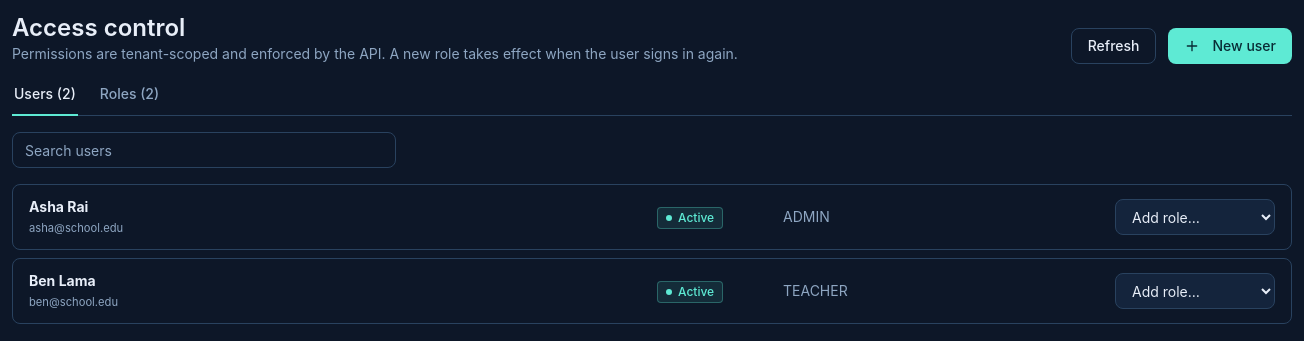
Test: RbacPage › lists users in rows and filters them with the search box
The image size is (1304, 341).
Expected: the text "Asha Rai" is shown, x1=29 y1=198 x2=88 y2=215
Expected: the list named "Users" is shown, x1=12 y1=184 x2=1292 y2=324
In the search field labelled "Search users": [204, 150] box x1=12 y1=132 x2=396 y2=168, type "ben"
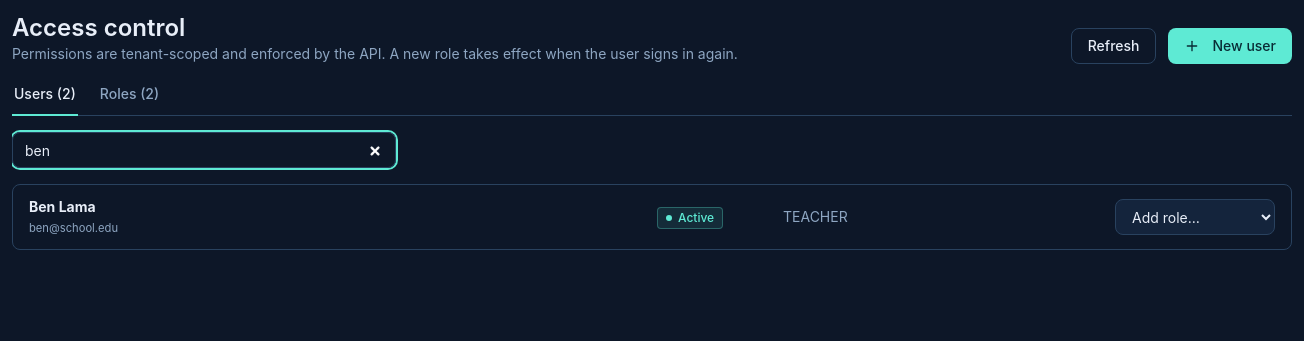
Expected: the text "Ben Lama" is shown, x1=29 y1=198 x2=96 y2=215
Expected: the text "Asha Rai" is gone
